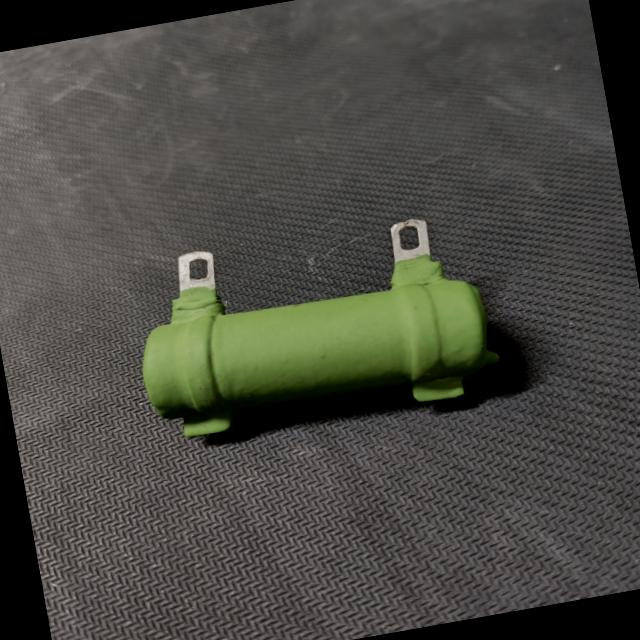resistor: (112, 194, 531, 472)
